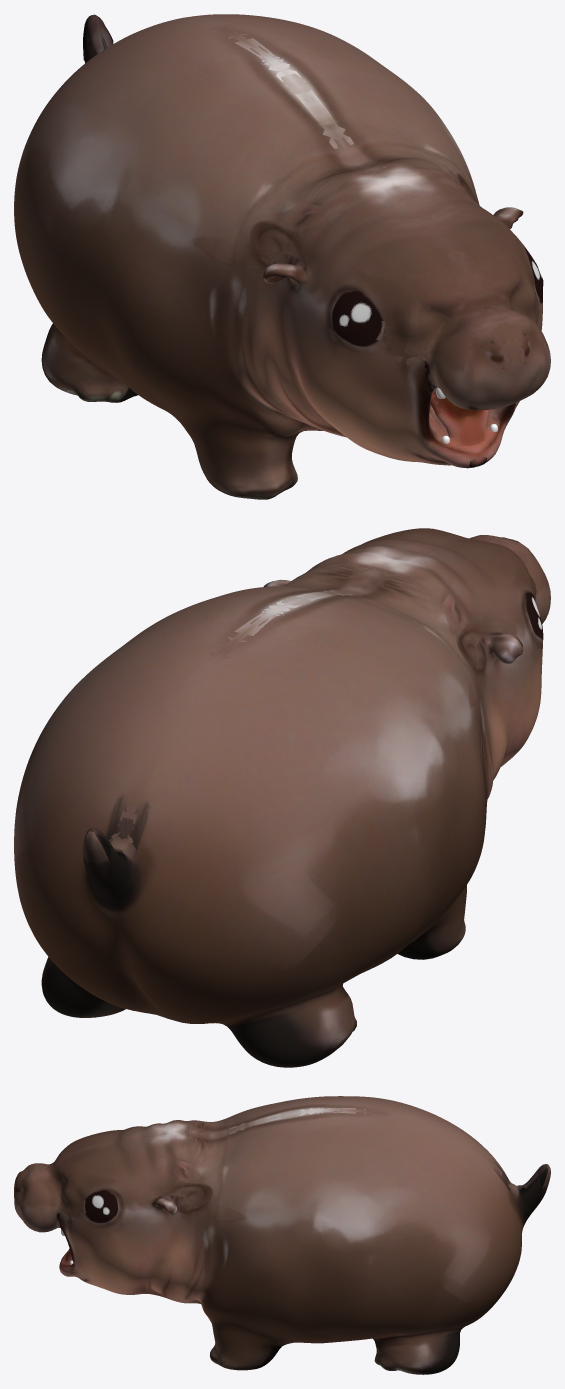
Rendered from moodeng.gltf.
The picture shows the model from 3 angles, top to bottom: view 1: azimuth 30°, elevation 25°; view 2: azimuth 150°, elevation 25°; view 3: azimuth 270°, elevation 25°; orthographic projection. The views are drawn at different scales.
Visible parts, largest first — view 1: Mesh_0_Material_0_0; view 2: Mesh_0_Material_0_0; view 3: Mesh_0_Material_0_0.
Boxes of the visible parts, x1,y1,x2,y2 form: Mesh_0_Material_0_0: (14, 14, 550, 499); Mesh_0_Material_0_0: (14, 528, 550, 1067); Mesh_0_Material_0_0: (14, 1096, 550, 1374).
Size of the model in its own units: 3.21 by 2.97 by 6.35.
2 materials, 1 textured.
